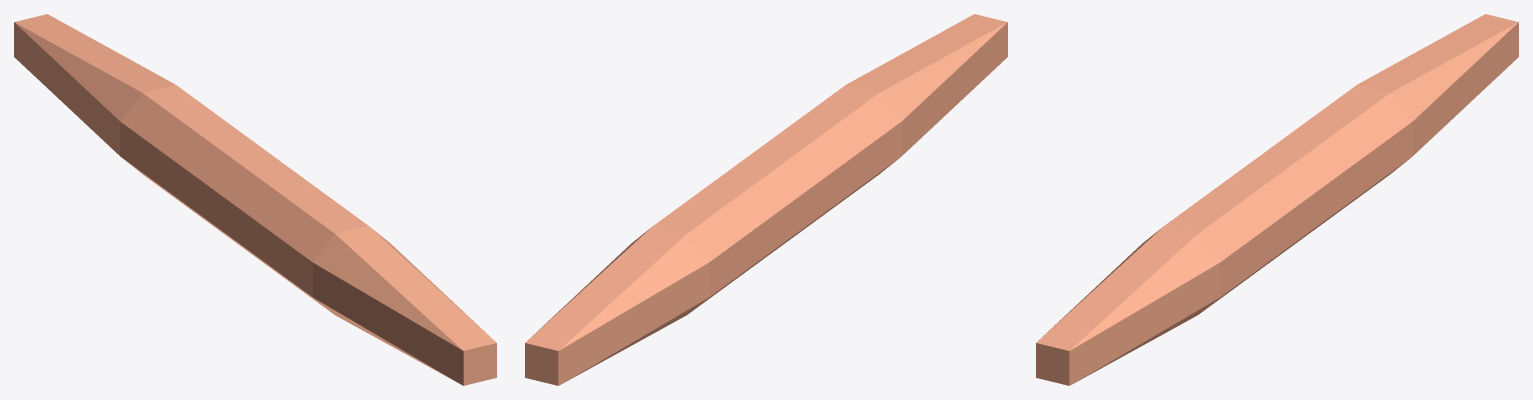
The model's file is PlayerWing.obj.
3 views of the same model, side by side, from view 1: azimuth 30°, elevation 25°; view 2: azimuth 150°, elevation 25°; view 3: azimuth 330°, elevation 25° (orthographic).
Visible parts, largest first — view 1: 立方体; view 2: 立方体; view 3: 立方体.
Part boxes in pixels (box(x1,y1,x2,y2)): 立方体: box(14, 14, 496, 385); 立方体: box(525, 14, 1007, 385); 立方体: box(1036, 14, 1518, 385).
Size of the model in its own units: 0.2 by 0.2 by 2.
Materials: 1 (1 with a texture image).
